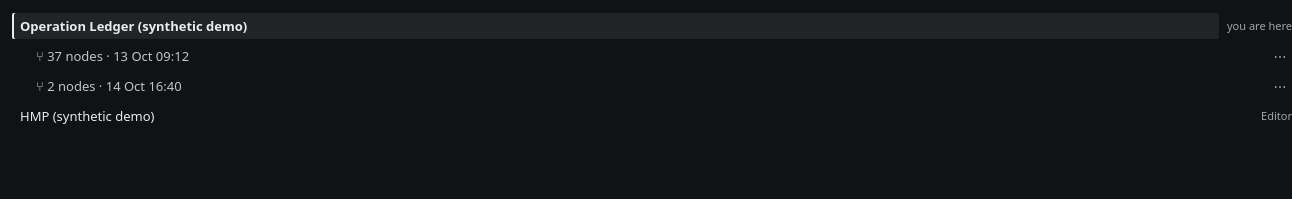
Test: CaseTree › deletes a branch after asking once, in place, and it leaves the tree
This screenshot has width=1292, height=199.
What coordinates should you click on to do the following:
click the button named "Actions for 2 nodes · 14 Oct 16:40"
I would click on:
 (1280, 86)
Its box is [1268,74,1291,98].
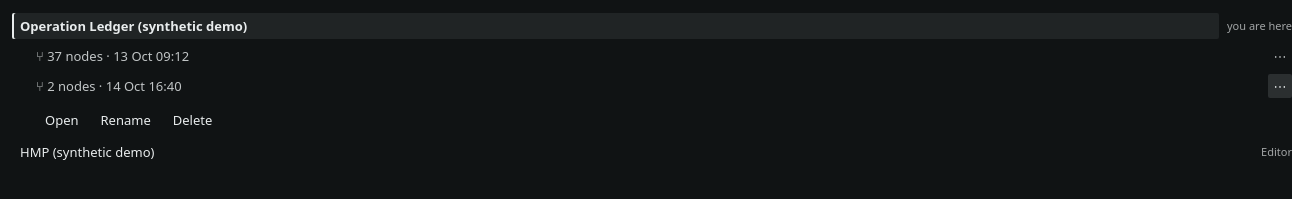
What coordinates should you click on to do the following:
click the button "Delete"
I would click on:
 (193, 120)
Its box is [164,104,221,136].
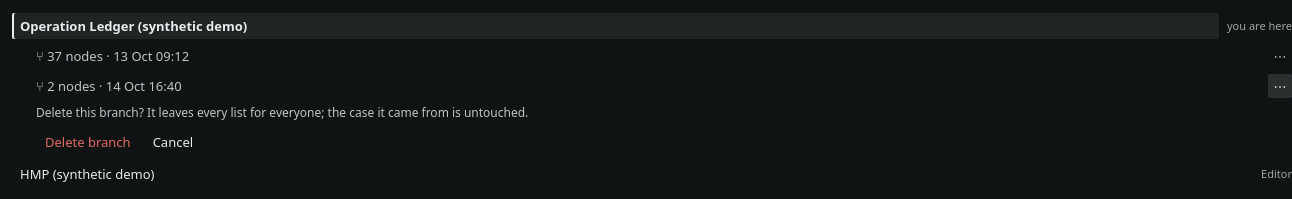
Check: the text "Delete this branch? It leaves every list for everyone" is shown, box [36,104,528,121]
What coordinates should you click on to do the following:
click the button "Delete branch"
I would click on:
 (88, 142)
Its box is [36,126,140,158].
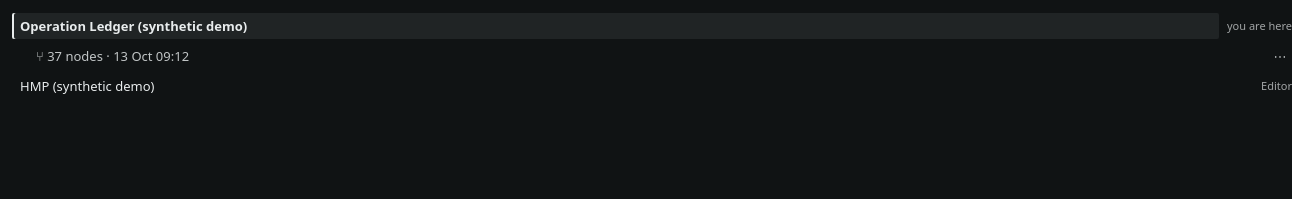
Check: the button "2 nodes · 14 Oct 16:40" is gone
